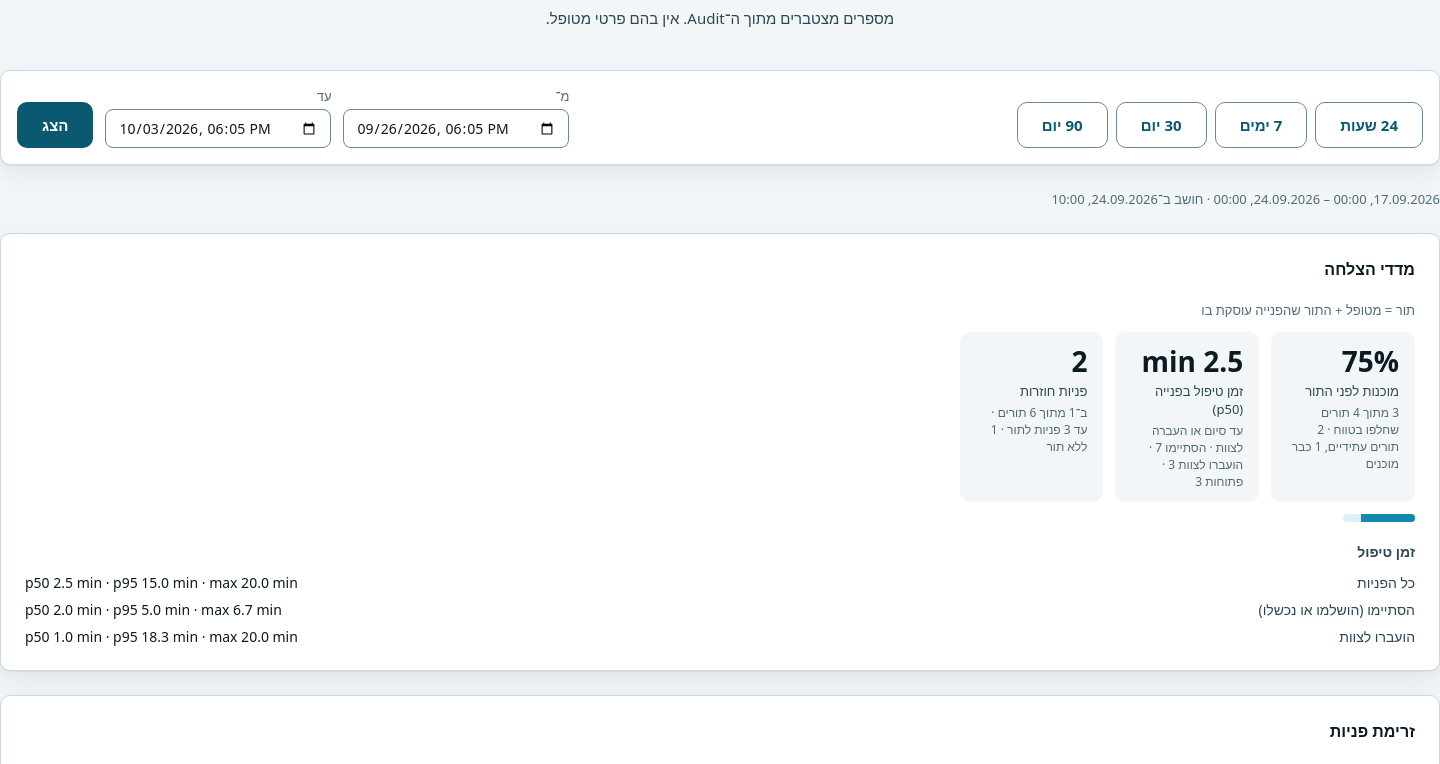
Metrics › lets only the most recently requested range land, even when an older request resolves later
This screenshot has width=1440, height=764.
Expected: the heading "זרימת פניות" is shown, [1330,720,1415,742]
Click the button "24 שעות".
click(1369, 125)  # box [1315,102,1423,148]
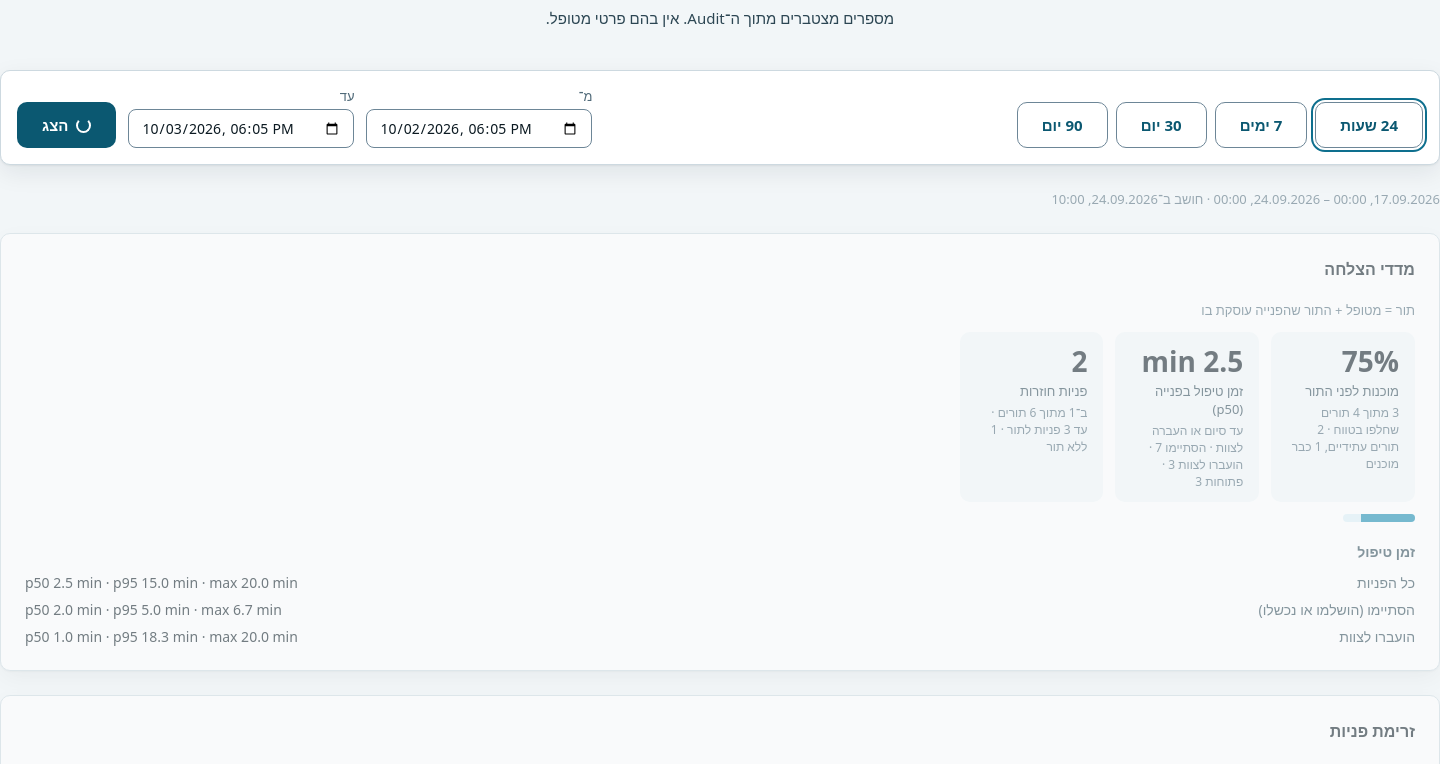
Click the button "30 יום".
click(1161, 125)  # box [1116,102,1207,148]
(page scrolled)
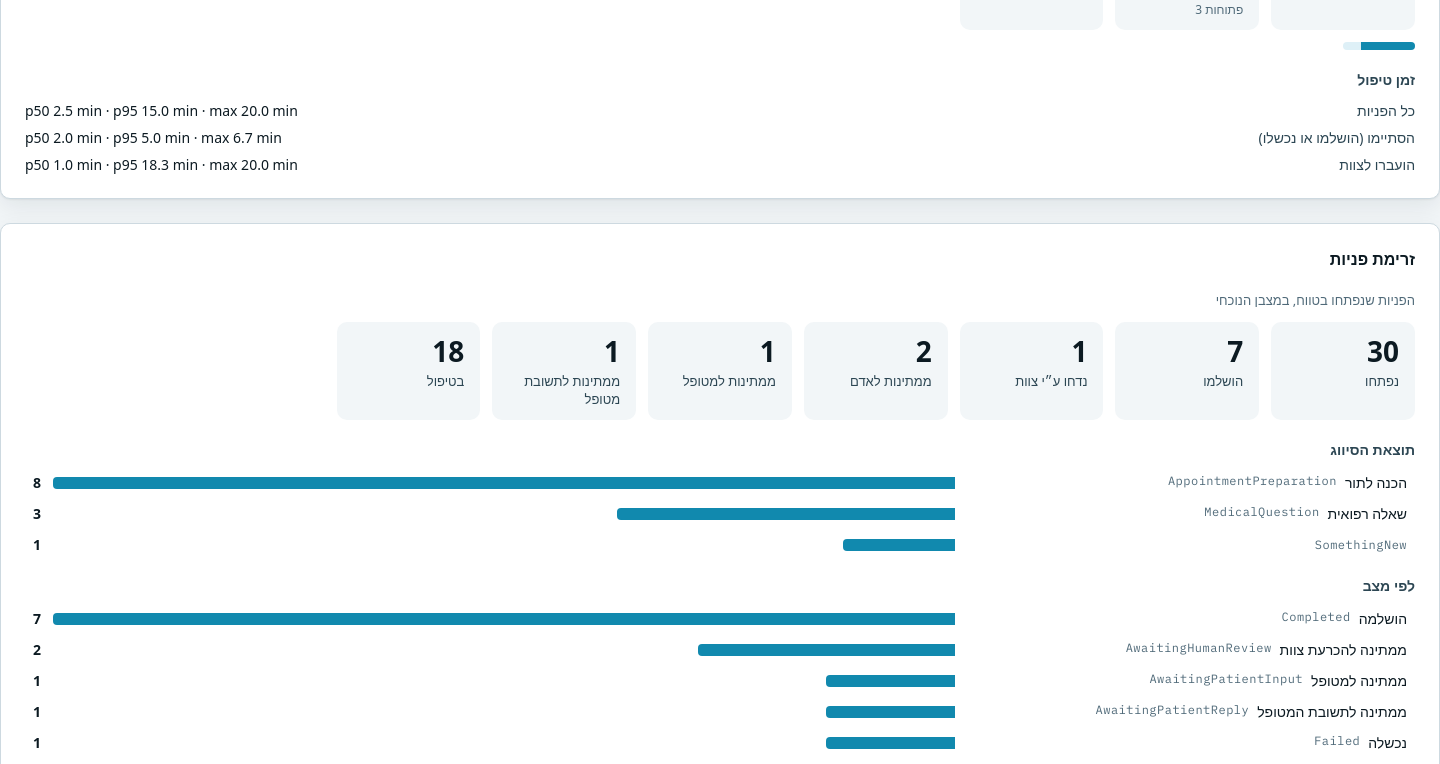
Now the text "נפתחו" shows "30", box [1367,332,1399,370]
